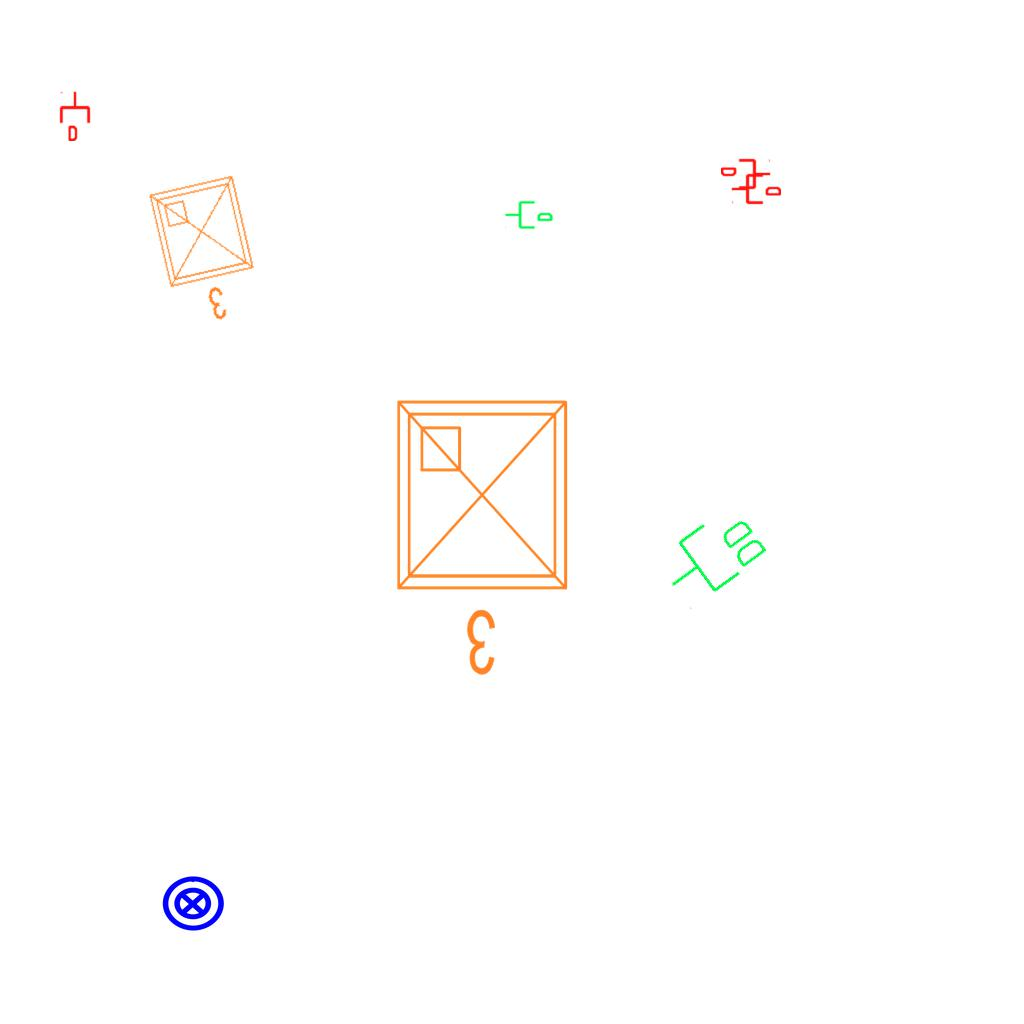Datenanschluss_einfach: (58, 91, 92, 141), (504, 197, 554, 231), (721, 157, 771, 191), (731, 172, 781, 206)
Datenanschluss_zweifach: (650, 498, 775, 615)
Einbaudownlights_LED_Konferenzraeume: (382, 386, 590, 686), (140, 166, 276, 336)
Taster_beleuchtet: (160, 871, 226, 937)
